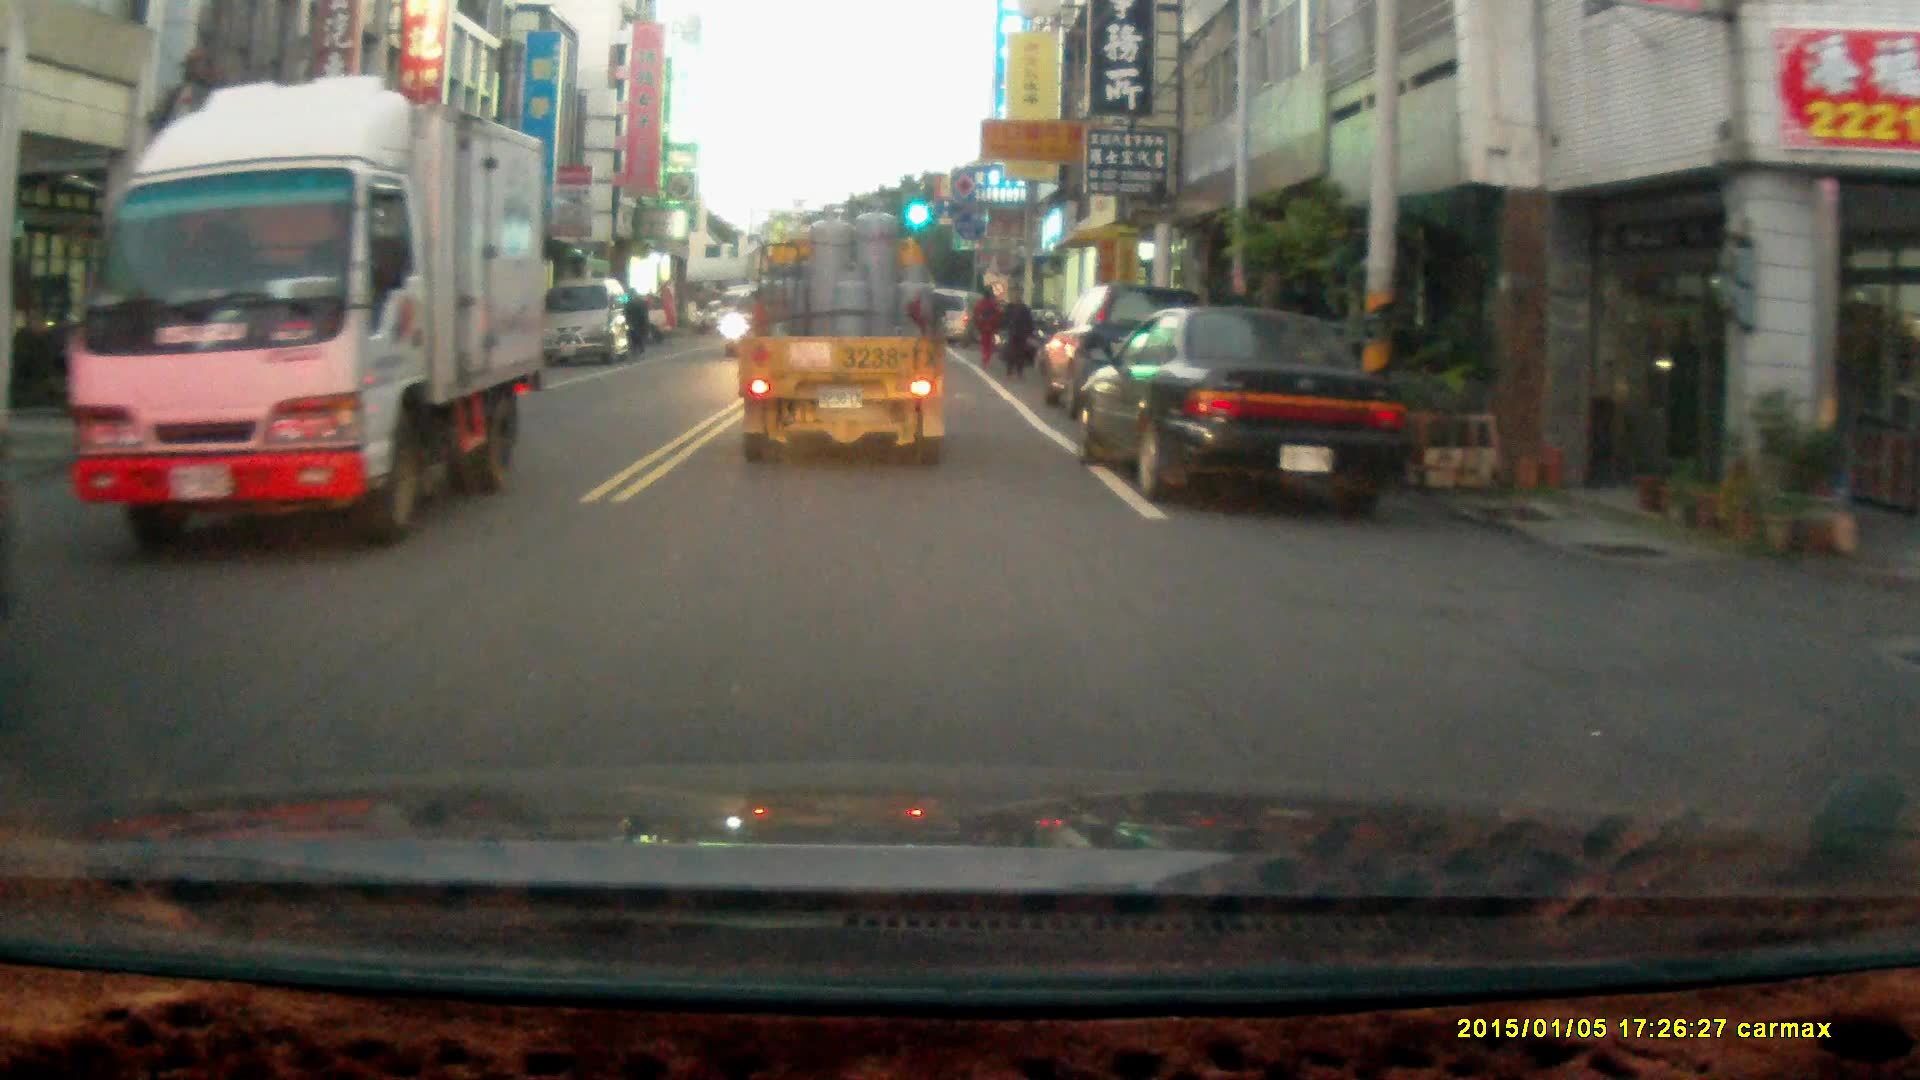pedestrian: (996, 278, 1033, 379), (969, 284, 1004, 367), (620, 288, 650, 361)
vehicle: (44, 76, 544, 546), (1078, 307, 1413, 512), (734, 194, 951, 470), (1037, 280, 1232, 422), (548, 278, 635, 367)
